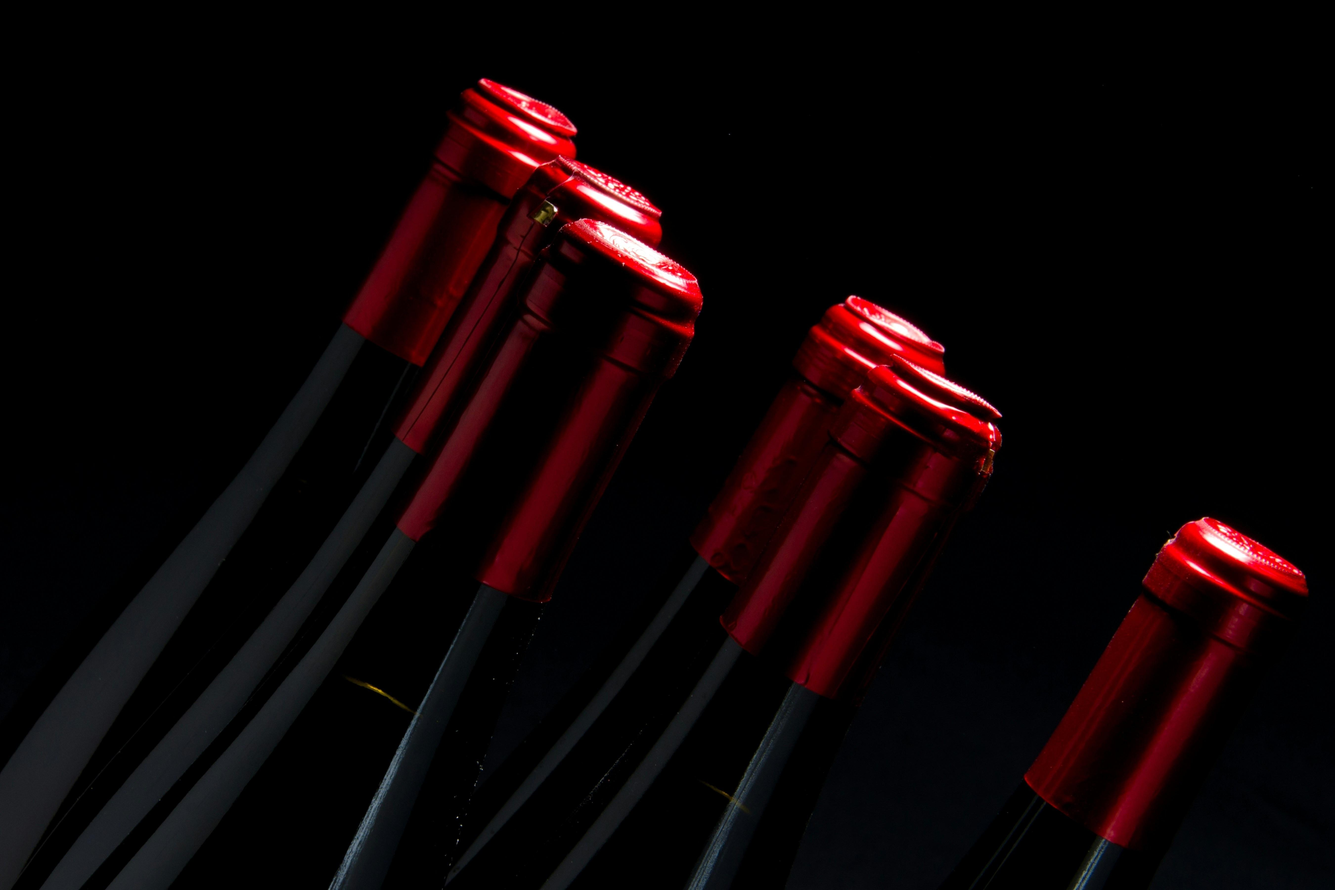Bottle-Detection: (2, 2, 618, 890), (52, 200, 752, 890), (77, 136, 660, 890), (410, 235, 952, 890), (551, 326, 1033, 890), (952, 494, 1335, 890)
